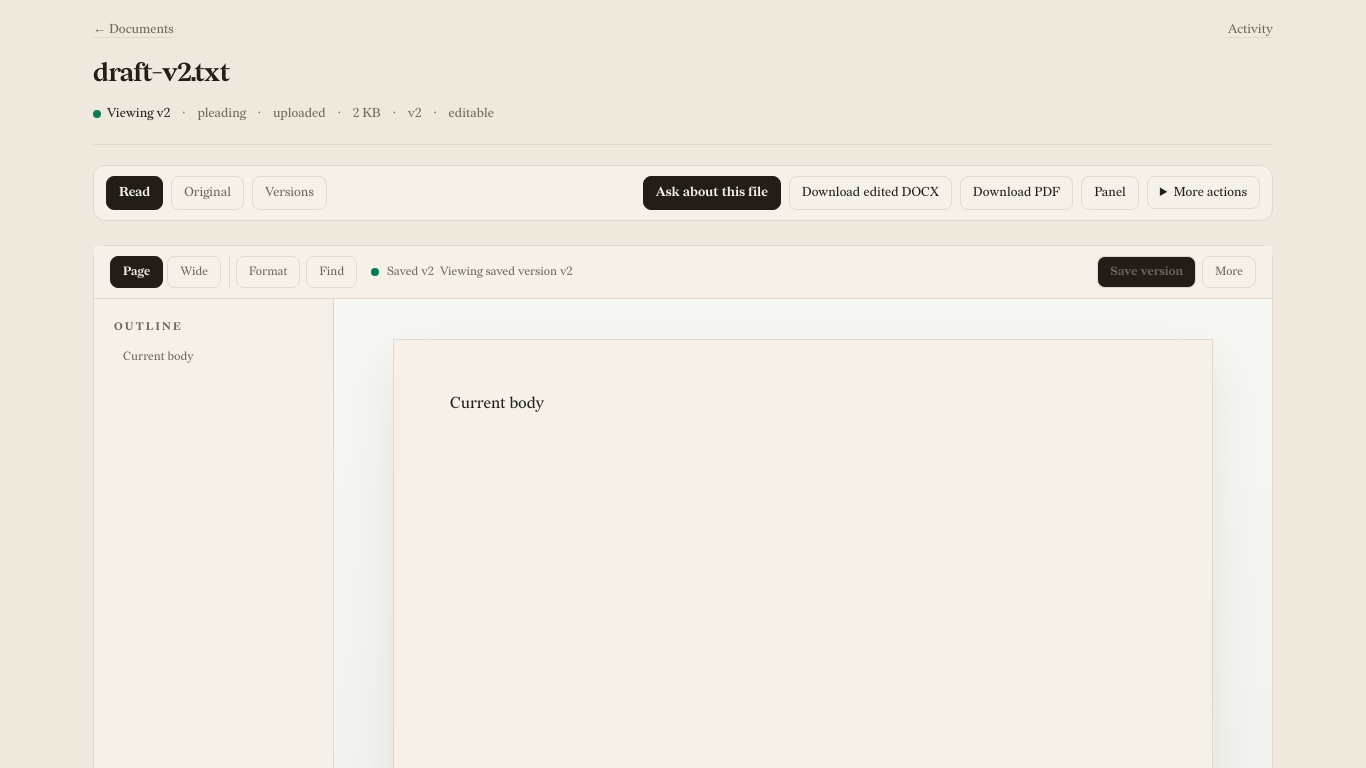
Test: DocumentDetail — versions › restores a prior saved version and refreshes active document content
Check: the heading "draft-v2.txt" is shown, box [93,58,230,88]
Click the button "Versions" at (289, 193), box [252,176,327,210]
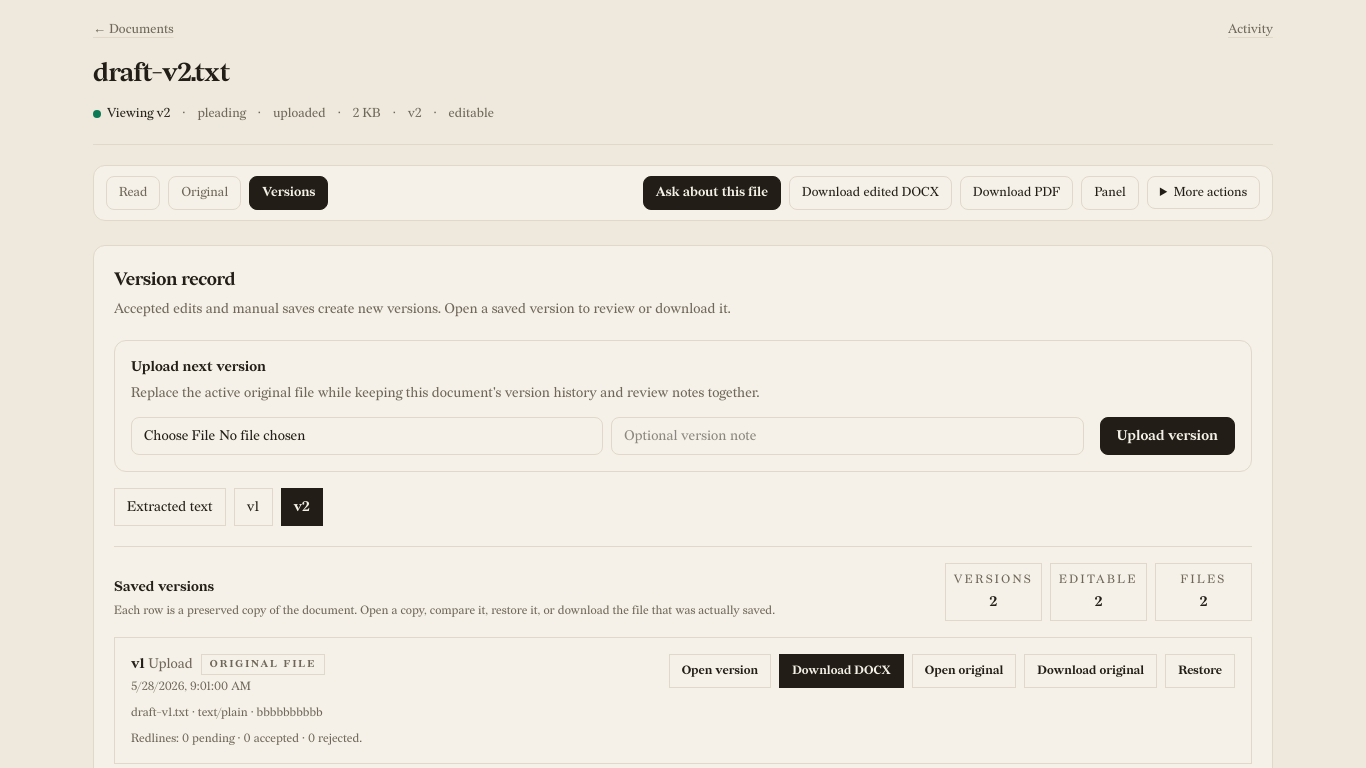
Click the button "Restore" at (1200, 671), box [1165,654,1235,688]
(page scrolled)
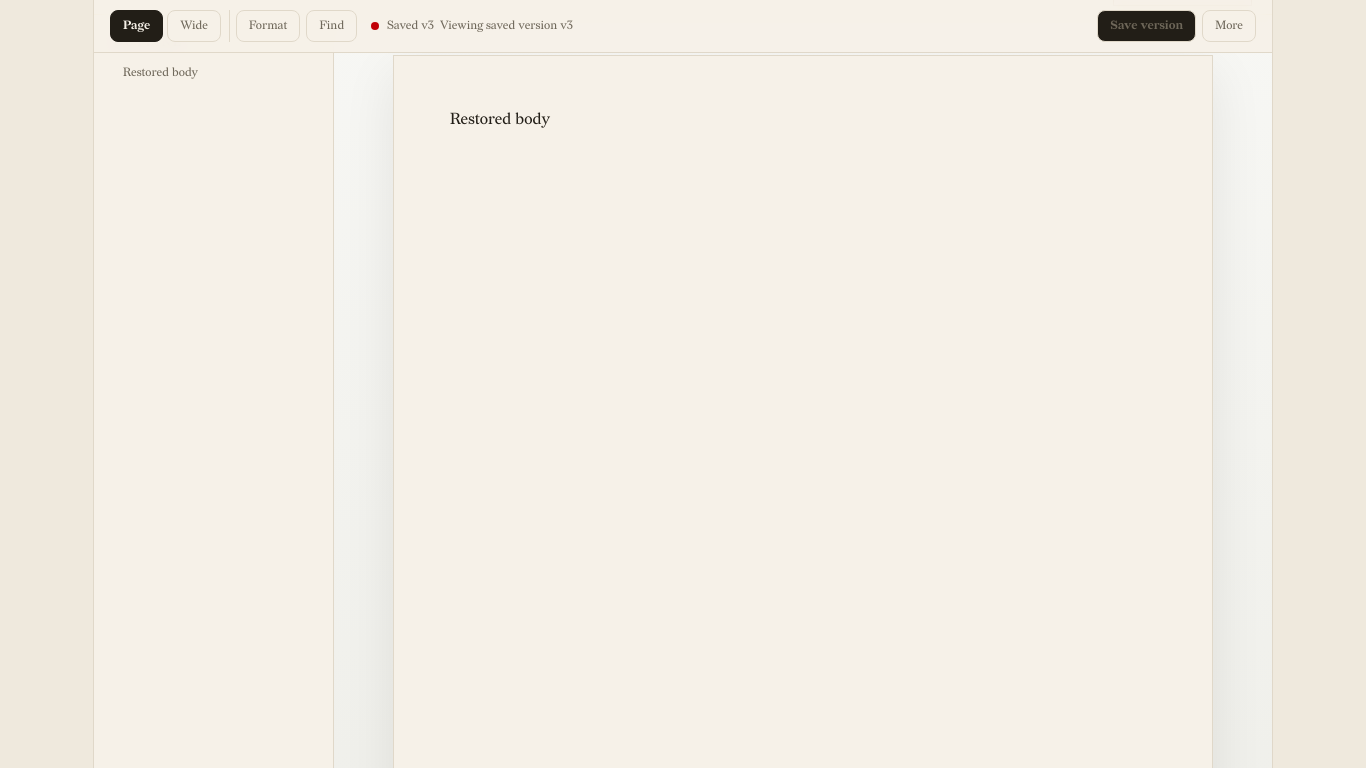
Check: the element with test id "document-editor" shows "Restored body", box [114,59,313,87]
